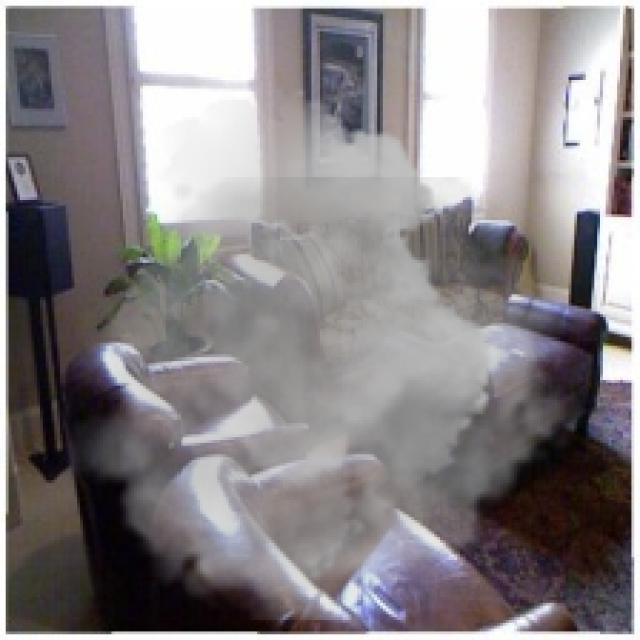Smoke: (62, 89, 588, 620)
